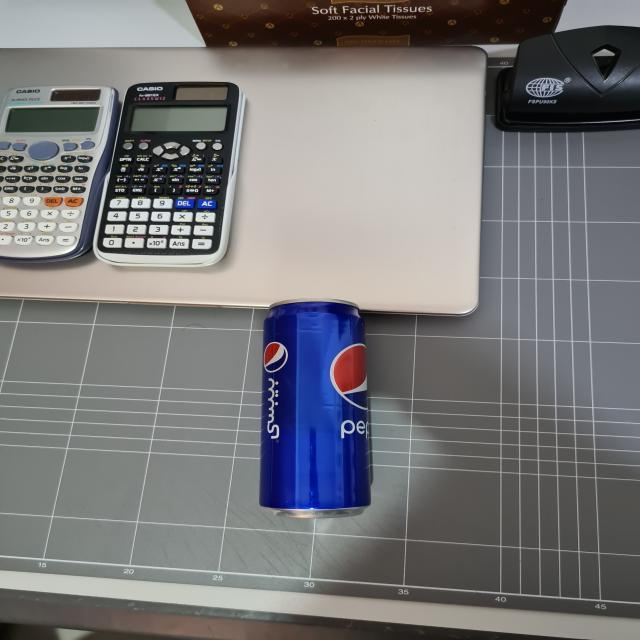can: (262, 297, 372, 518)
